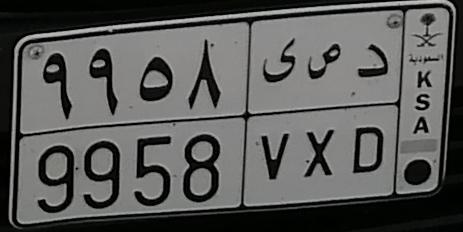5: (133, 56, 174, 206)
8: (182, 39, 221, 204)
9: (36, 51, 76, 215), (82, 46, 121, 210)
D: (353, 41, 389, 176)
V: (260, 36, 297, 181)
X: (304, 42, 342, 180)
